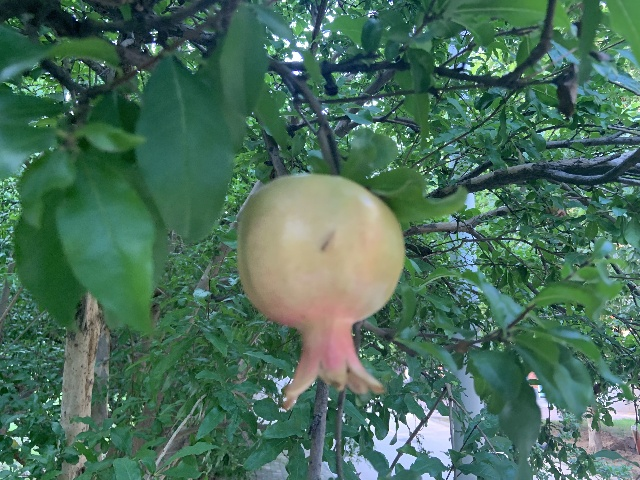mid-growth: (235, 173, 405, 410)
